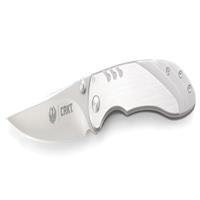knife: (3, 54, 194, 148)
